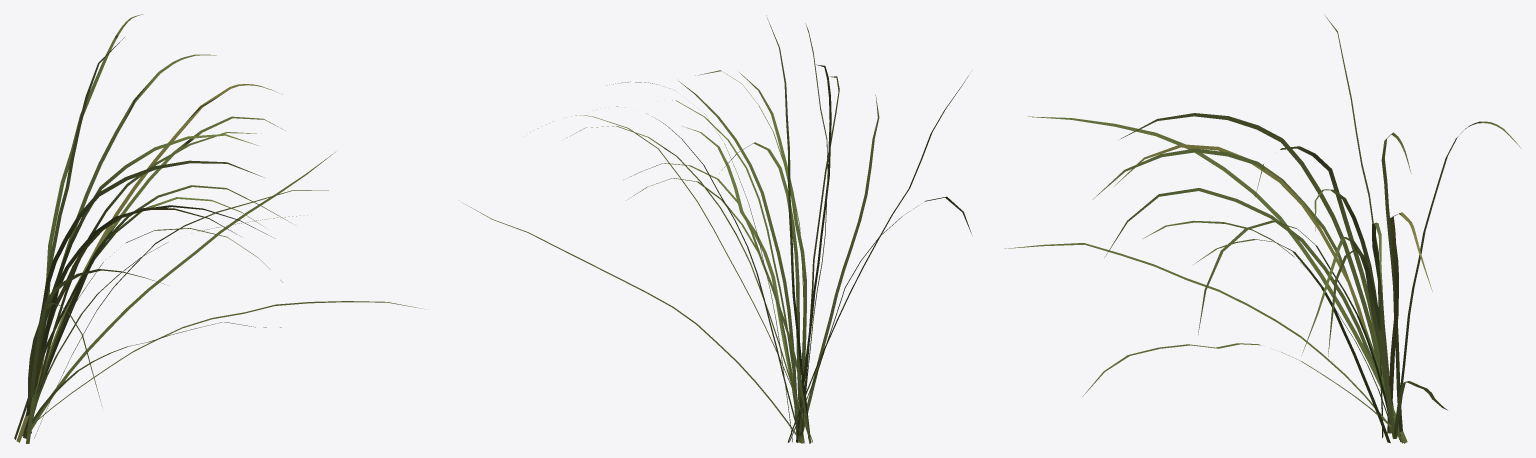
File: capim_2_longe.glb
The picture shows the model from 3 angles, left to right: view 1: azimuth 30°, elevation 25°; view 2: azimuth 150°, elevation 25°; view 3: azimuth 270°, elevation 25°; orthographic projection. The views are drawn at different scales.
Parts seen in each view (by area): view 1: capim_2_longe; view 2: capim_2_longe; view 3: capim_2_longe.
Part boxes in pixels (x1,y1,x2,y2): capim_2_longe: [14, 14, 424, 443]; capim_2_longe: [463, 15, 972, 443]; capim_2_longe: [1004, 16, 1521, 443].
Size of the model in its own units: 1.1 by 1.11 by 1.13.
